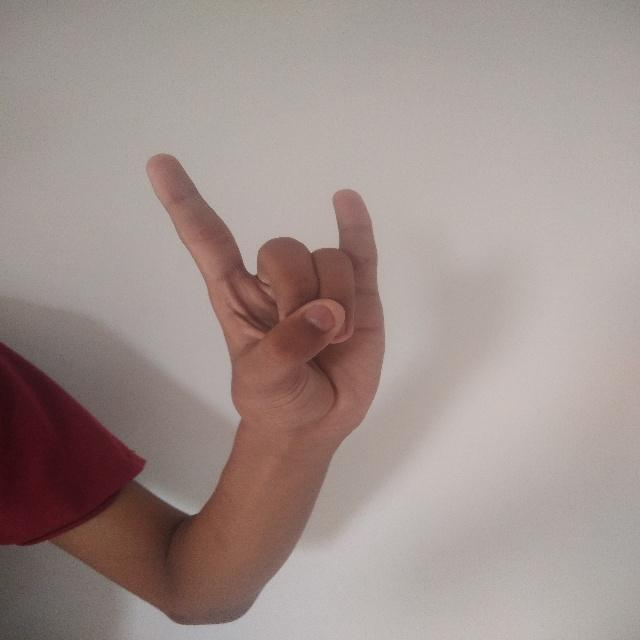Corna: (138, 140, 393, 458)
